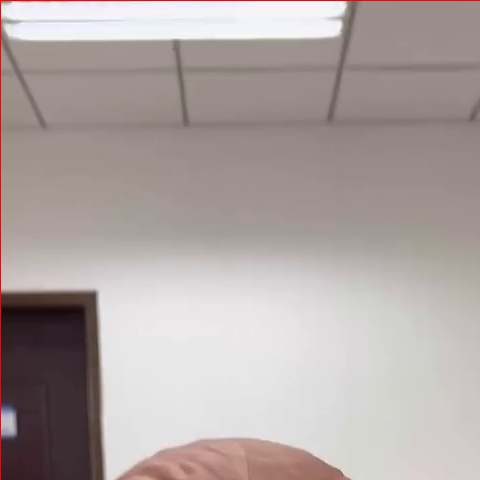farm: (131, 205, 381, 439)
